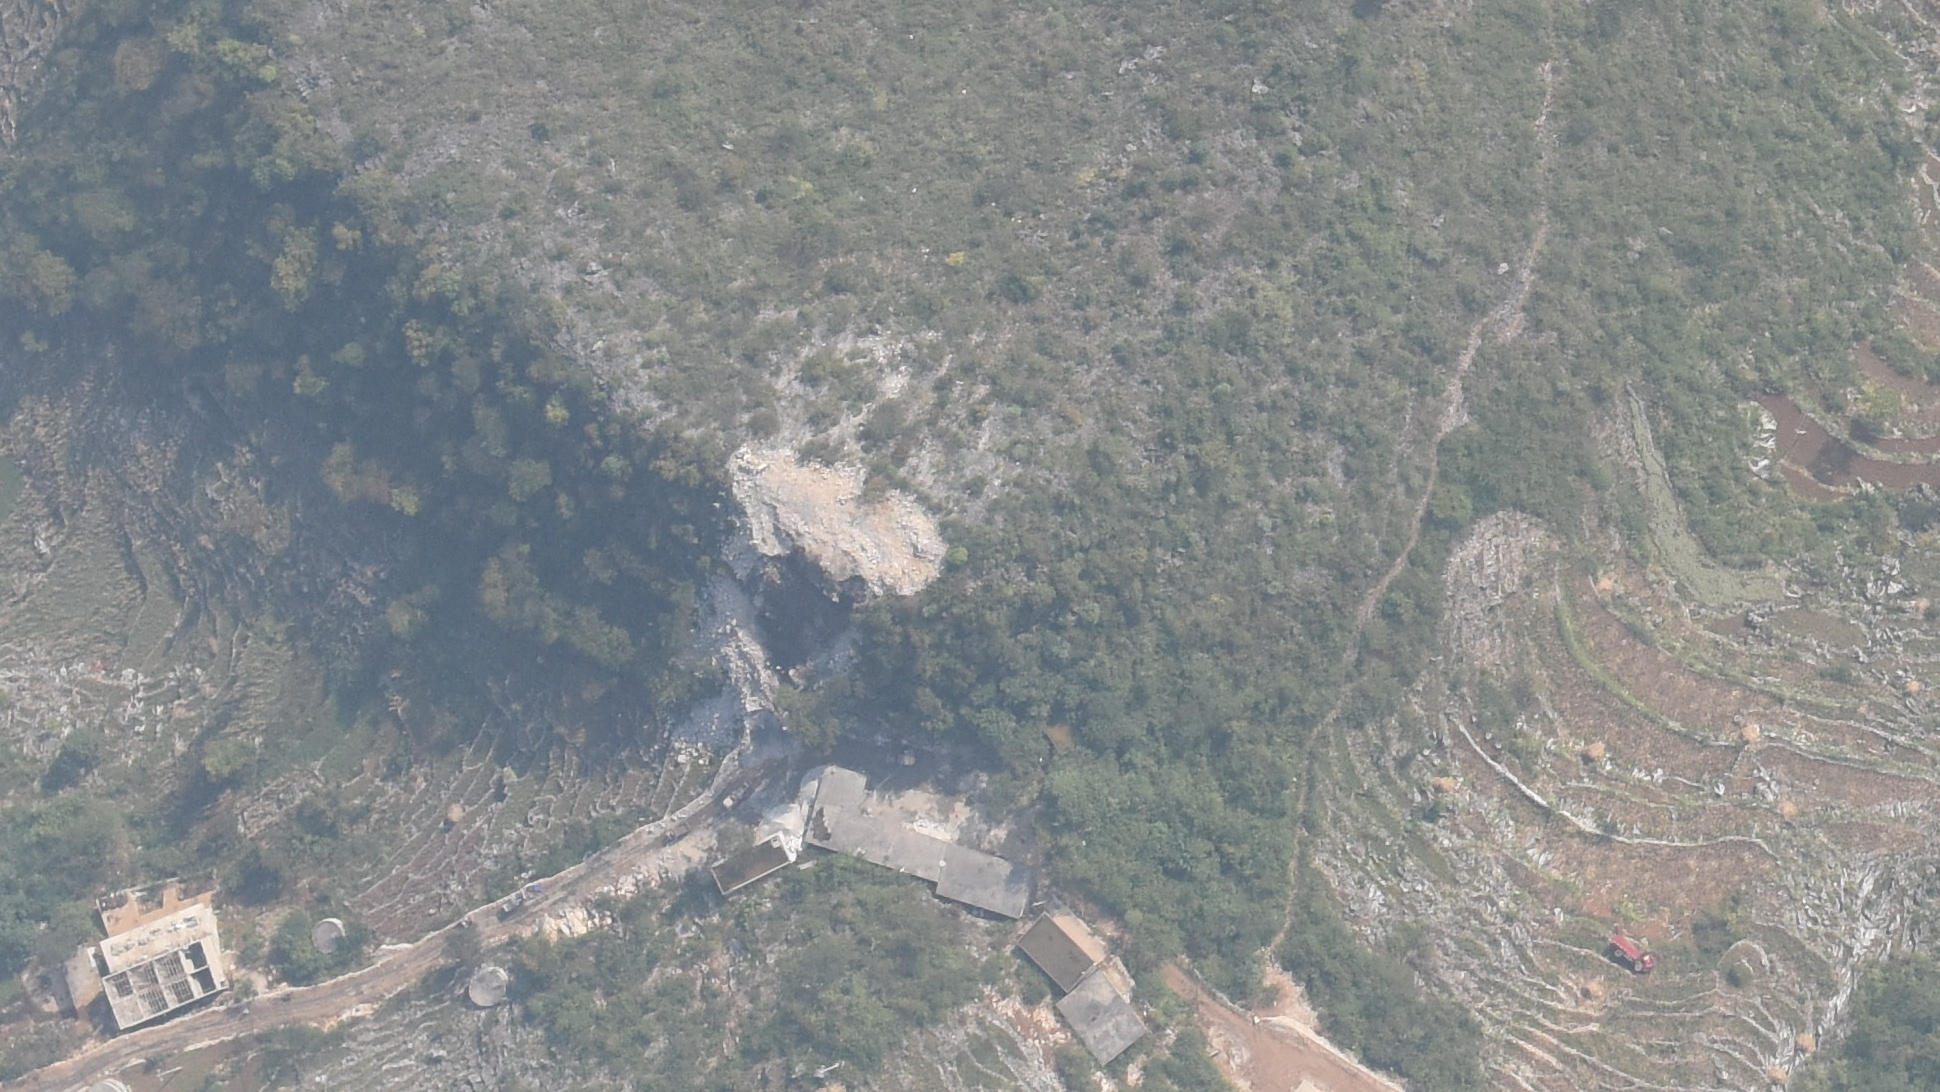building: (804, 761, 1027, 918), (101, 932, 238, 1031), (1057, 966, 1148, 1066), (1012, 910, 1114, 992), (705, 836, 794, 897), (61, 948, 109, 1021)
quarry: (693, 440, 938, 736)
vehicle: (1607, 930, 1650, 967)
well: (459, 962, 523, 1010), (305, 915, 352, 955)
